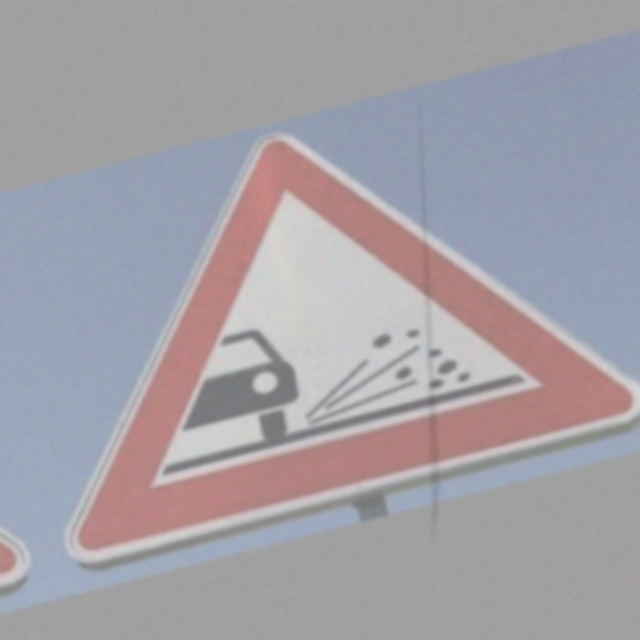Loose_Gravel: (34, 90, 619, 554)
